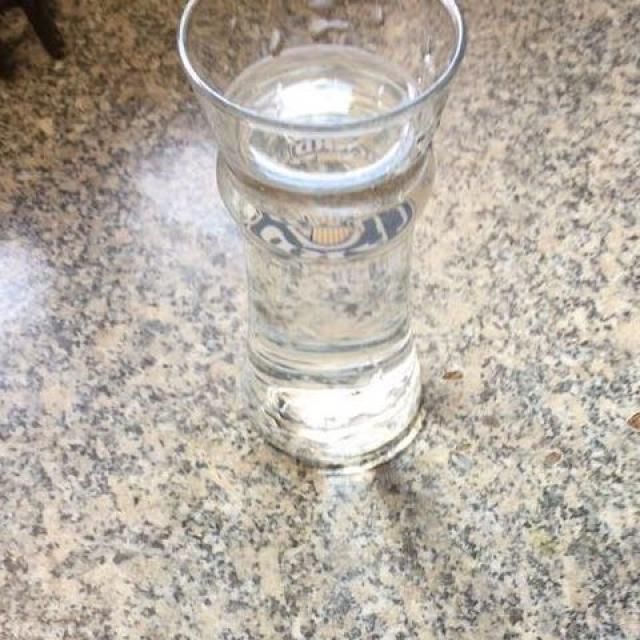water: (220, 49, 442, 449)
